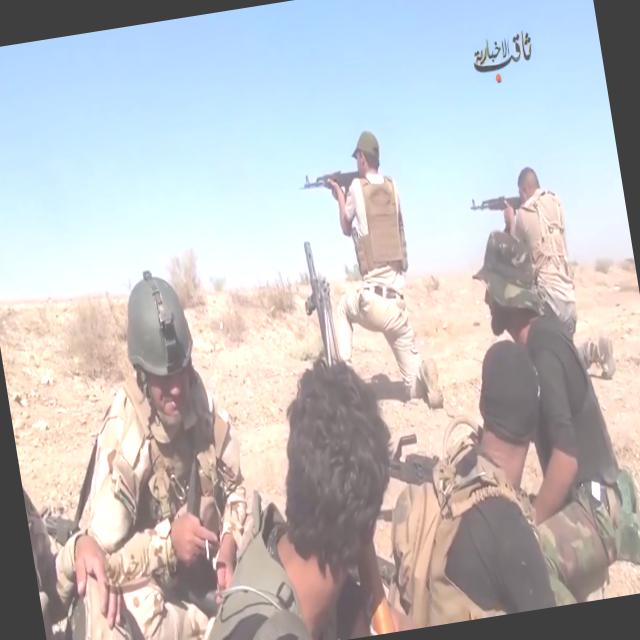long weapon: (291, 152, 363, 220), (459, 182, 524, 225)
